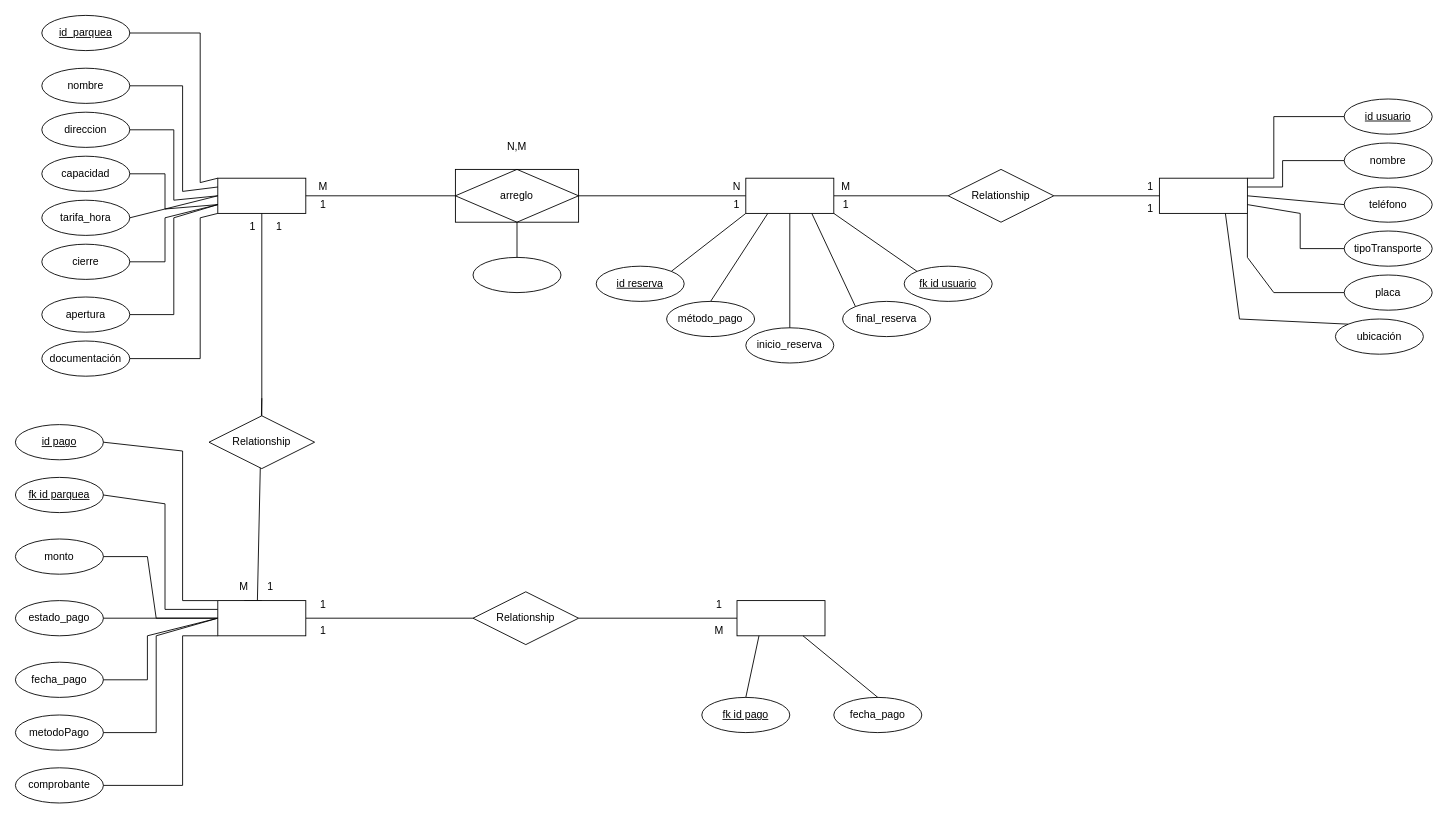
The diagram is 1448 pixels wide and 818 high, and some of its shapes have lost their labels. The shapes that lost their labels are listed below. From the top down, each one's centre as x and y in pixels, then its label:
(261,195): PARQUEADERO
(789,195): RESERVAS
(1203,195): USUARIO
(516,275): id parquea ,id reserva
(261,618): PAGO
(780,618): REGISTROS
